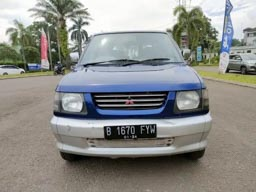plat: (105, 124, 155, 135)
